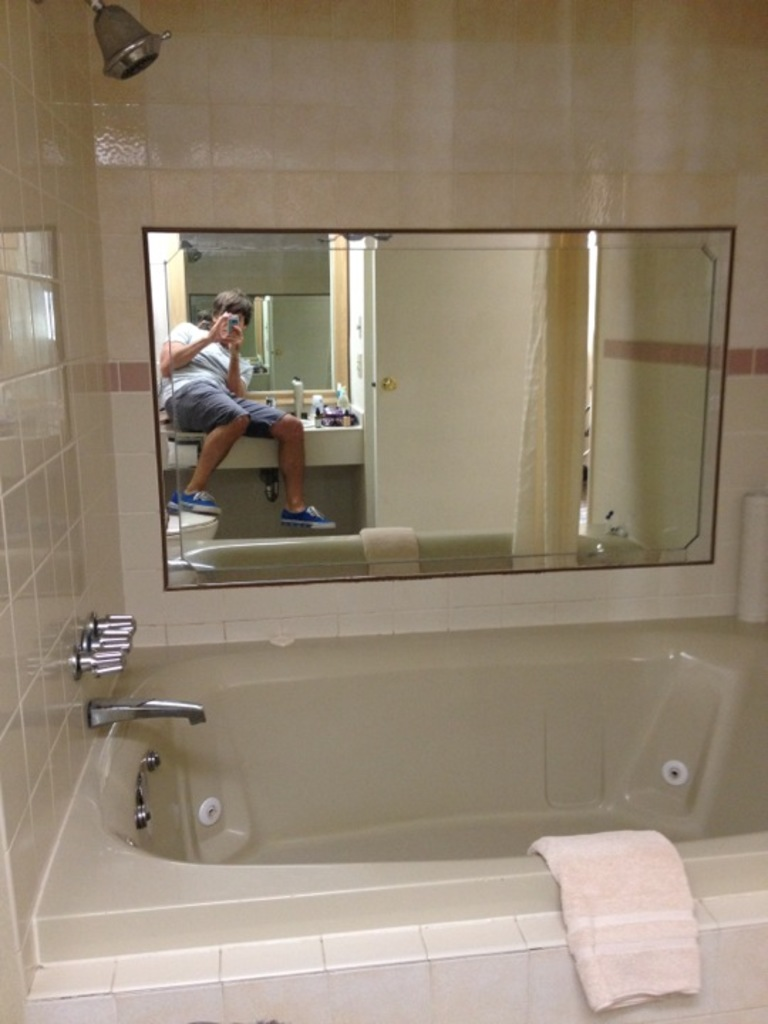tap: (86, 698, 210, 731)
